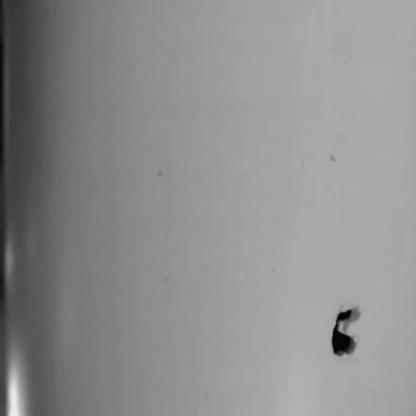kongdong: (304, 302, 366, 363)
